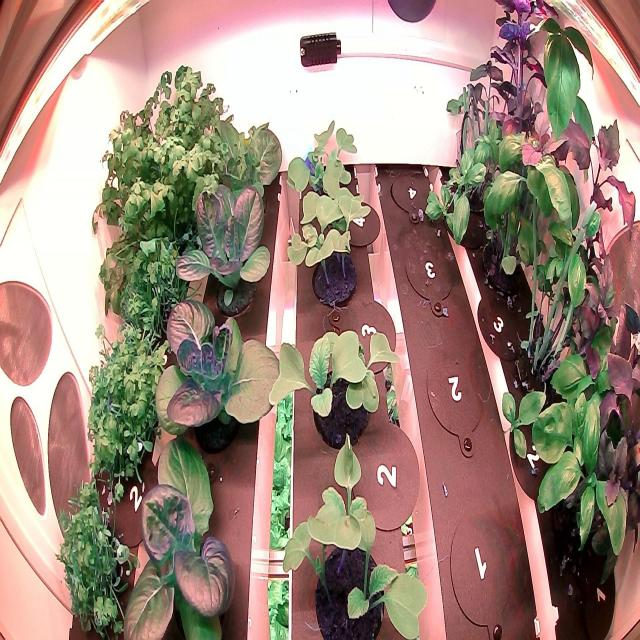empty_pod: (443, 495, 527, 639), (418, 334, 491, 468), (400, 225, 459, 317), (386, 160, 441, 222)
young: (112, 423, 248, 639), (144, 284, 288, 480), (168, 161, 279, 330), (179, 101, 286, 233)
